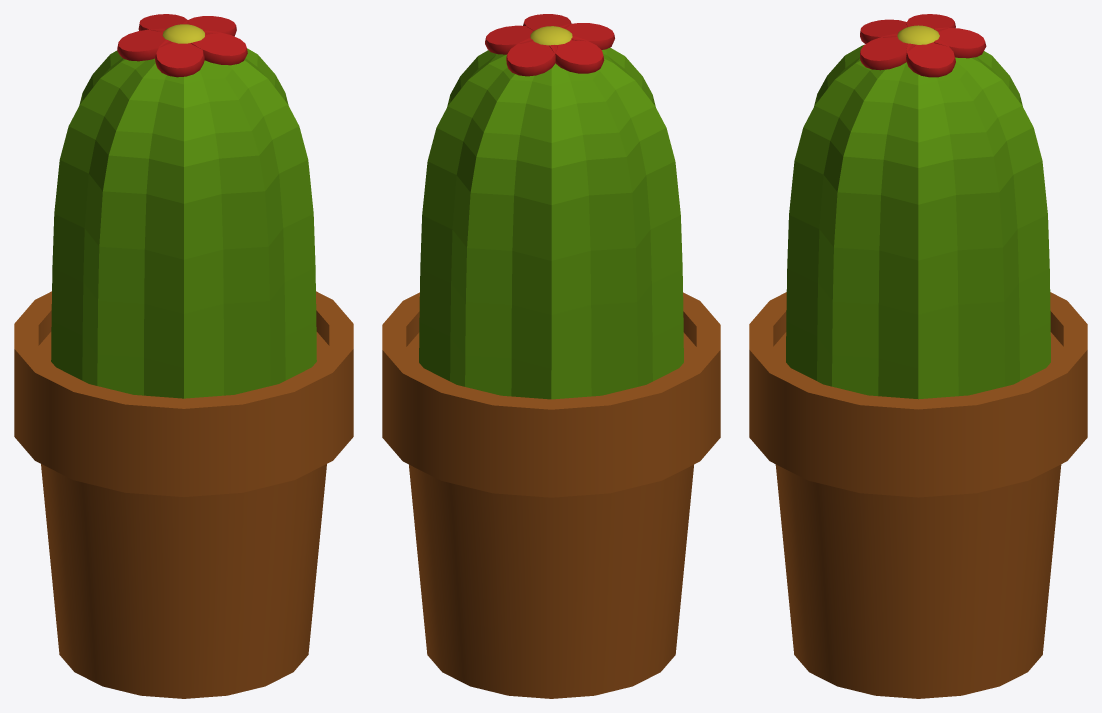
The model's file is cactus.glb.
3 views of the same model, side by side, from view 1: azimuth 30°, elevation 25°; view 2: azimuth 150°, elevation 25°; view 3: azimuth 270°, elevation 25° (orthographic).
Visible parts, largest first — view 1: Cylinder002; view 2: Cylinder002; view 3: Cylinder002.
Part boxes in pixels (x1,y1,x2,y2): Cylinder002: (14, 14, 353, 698); Cylinder002: (382, 14, 720, 698); Cylinder002: (749, 14, 1087, 698).
Size of the model in its own units: 0.0364 by 0.072 by 0.0358.
Materials: 1 (1 with a texture image).
